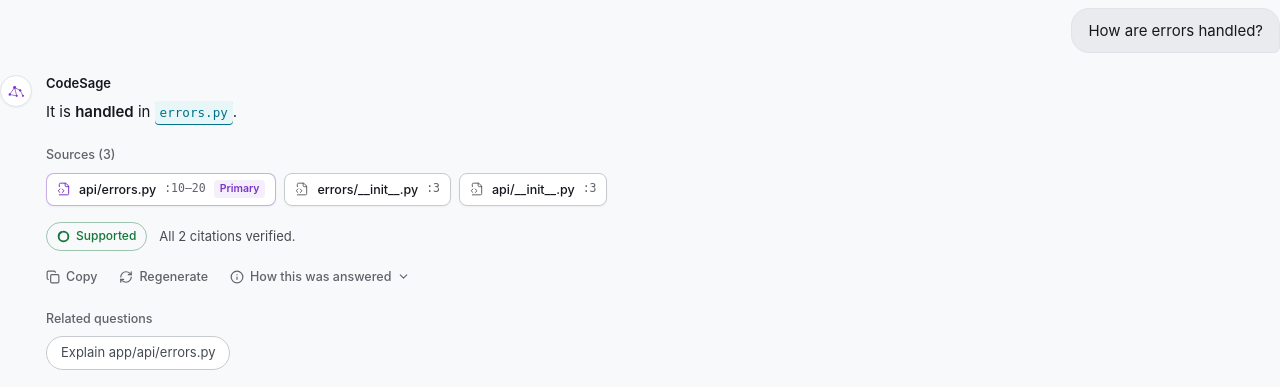
Test: AskTurnView › copies the answer as plain text, without markdown markers
Click the button "Copy".
click(72, 276)  # box [36,260,107,292]
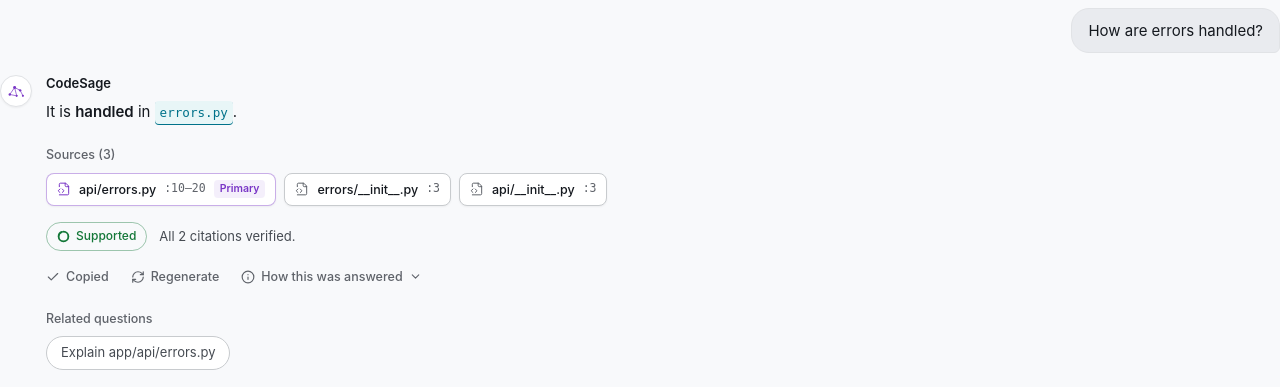
Now the text "Copied" is shown, box [66,267,109,286]
